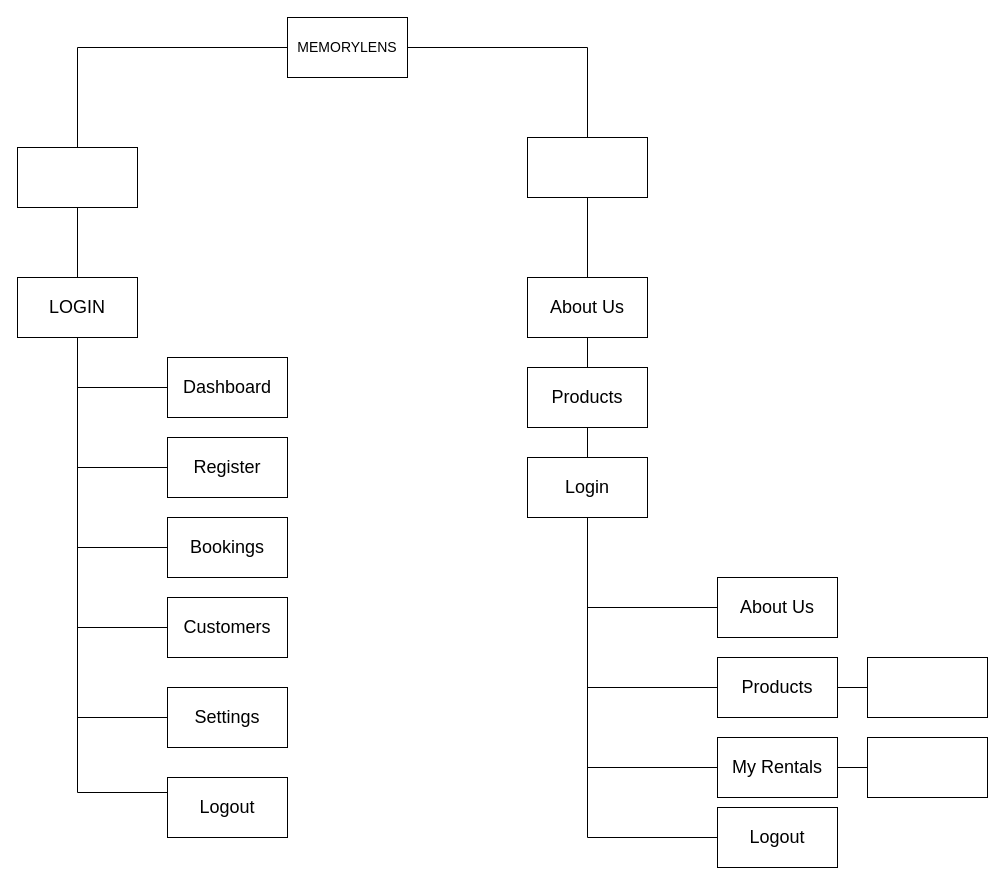
Some shapes in this 1005 by 885 pixel diagram are drawn without their labels. The shapes that lost their labels are listed below. From the top down, each one's box as (x1, y1, x2, y2) in pixels, then its label:
(16, 146, 138, 208): ADMIN
(526, 136, 648, 198): USER
(866, 656, 988, 718): rent
(866, 736, 988, 798): Invoice
